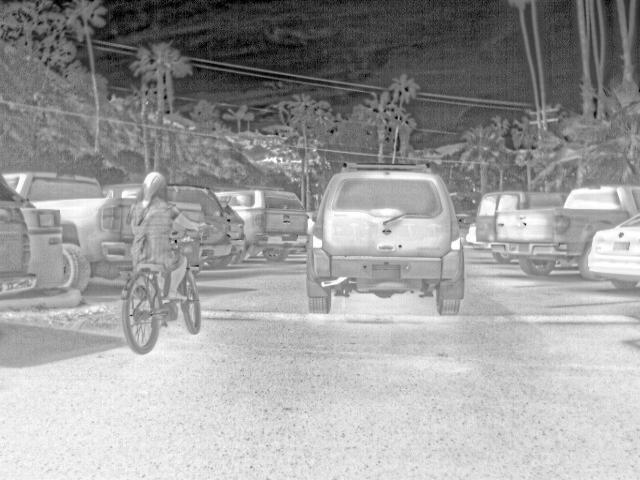car: (306, 160, 465, 317), (0, 170, 132, 292), (497, 184, 639, 278), (213, 188, 307, 262), (477, 190, 569, 264), (165, 184, 230, 269), (0, 180, 38, 296), (586, 213, 639, 292), (219, 202, 247, 264), (466, 222, 479, 248)
person: (131, 169, 189, 301)
